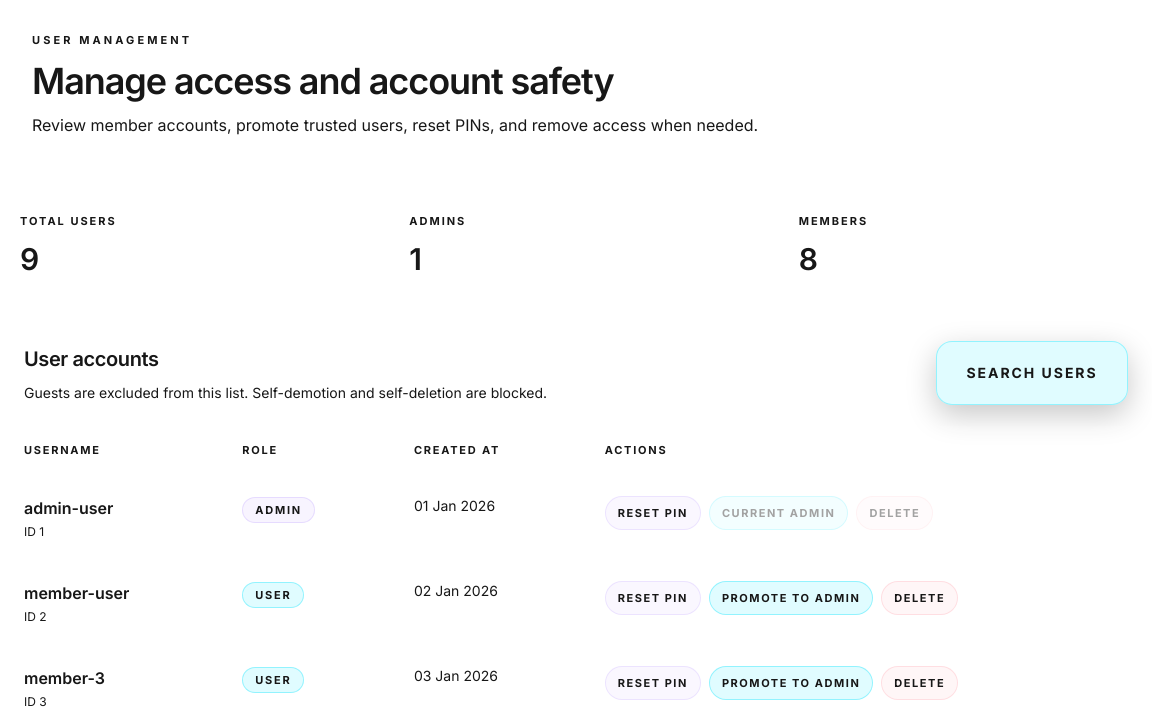
Test case: AdminUsersPage › removes a user from the table after a confirmed delete
Check: the text "member-user" is shown, box [24,582,129,602]
Click the button "Delete" in the row of "member-user" at {"x": 920, "y": 598}, box [881,580,958,615]
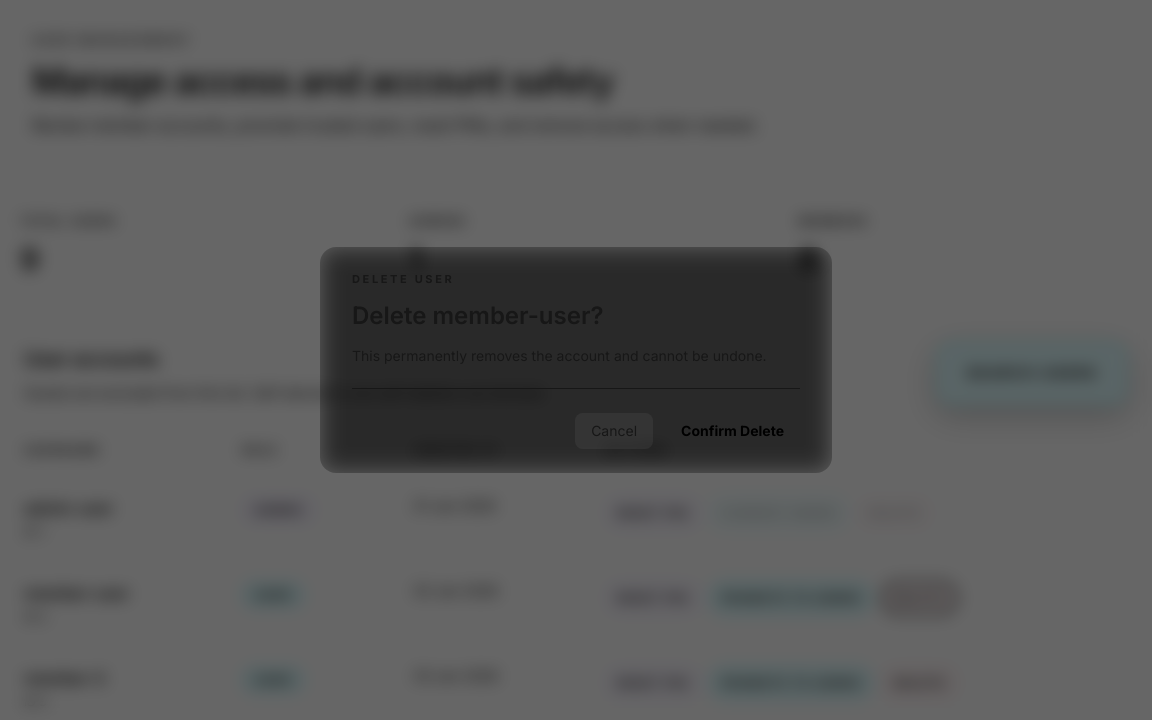
Click the button "Confirm Delete" at {"x": 732, "y": 431}, box [665,413,800,449]
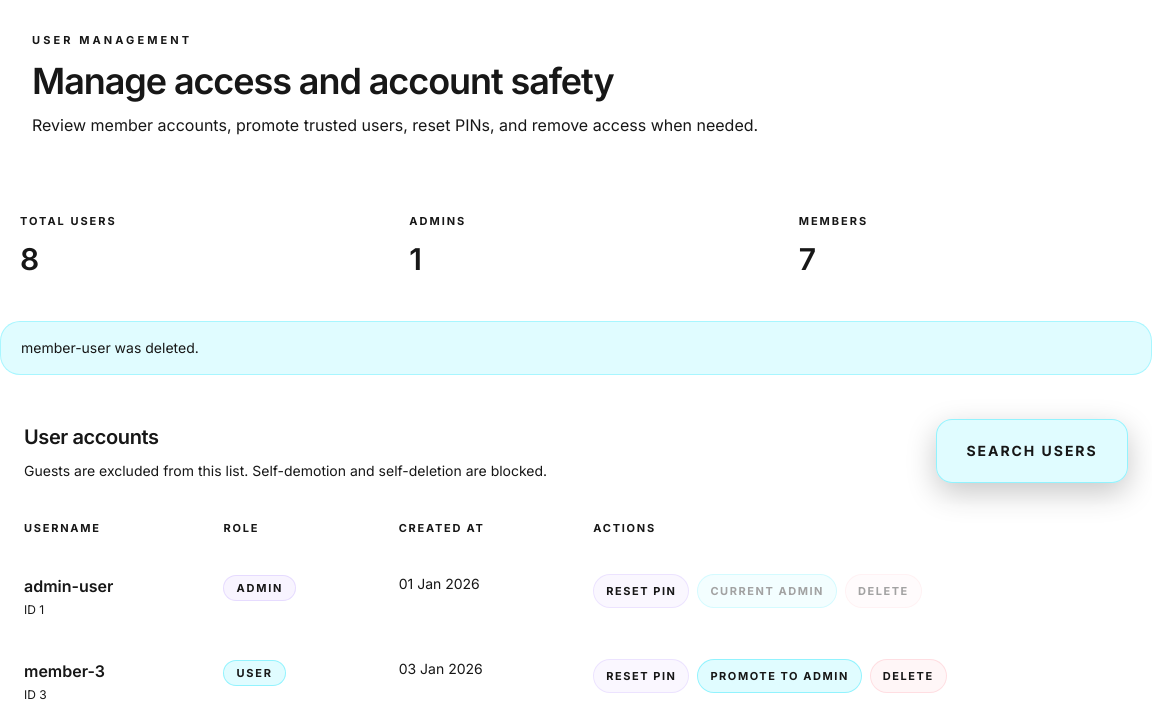
Check: the text "member-user was deleted." is shown, box [0,321,1151,375]
